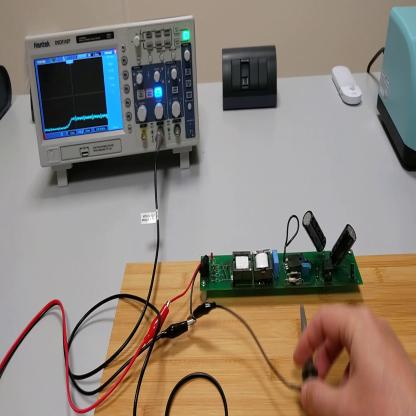hand: (294, 309, 416, 416)
high voltage board: (169, 208, 364, 323)
oscilloscope: (24, 15, 201, 186)
oscilloscope probe tip: (300, 308, 319, 416)
socket: (2, 62, 14, 119), (30, 89, 36, 127)
welder station: (378, 6, 416, 174)
working area: (94, 253, 416, 416)
